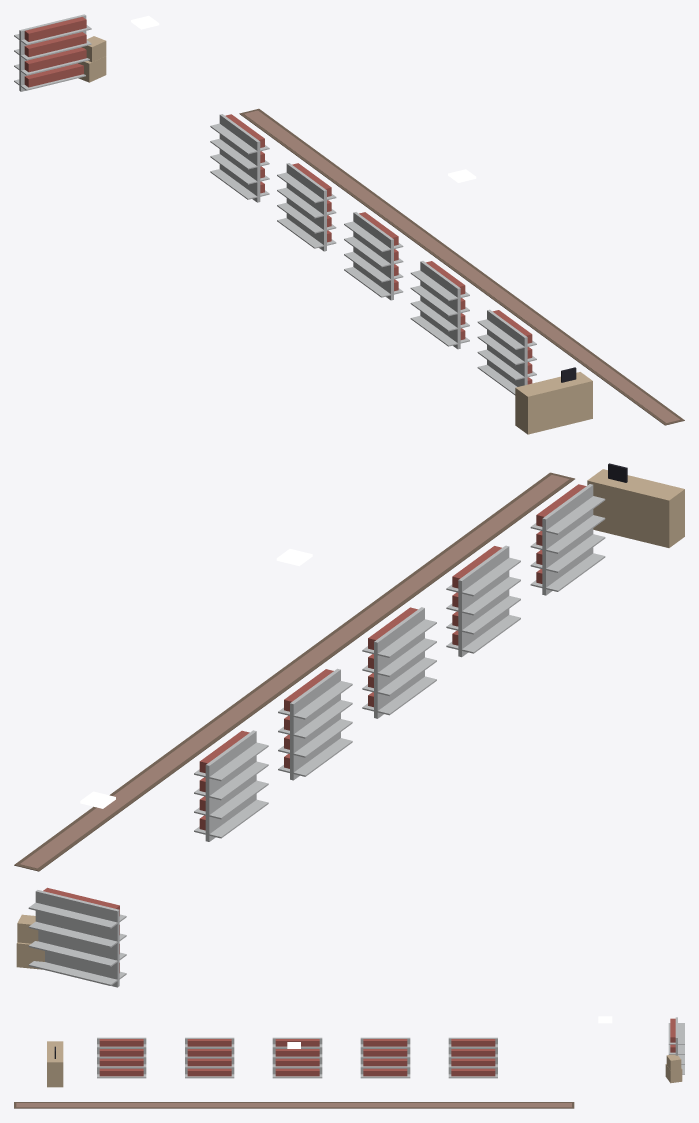
File: fine-s0.glb
3 views of the same model, one above another, from view 1: azimuth 30°, elevation 25°; view 2: azimuth 150°, elevation 25°; view 3: azimuth 270°, elevation 25° (orthographic). The views are drawn at different scales.
Visible parts, largest first — view 1: soft-s0, shelving.000, shop-counter.000, shelf.000, shelf.001, shelf.003, shelf.002, shelf.004, cardboard-box.000; view 2: soft-s0, shelving.000, shop-counter.000, shelf.000, shelf.004, shelf.003, shelf.001, shelf.002, cardboard-box.000; view 3: soft-s0, shelf.001, shelf.000, shelf.003, shelf.004, shelf.002, shop-counter.000, shelving.000, cardboard-box.000.
Boxes of the visible parts, bbox=[...] form: soft-s0: bbox=[239, 108, 684, 425]; shelving.000: bbox=[14, 14, 91, 91]; shop-counter.000: bbox=[515, 367, 592, 434]; shelf.000: bbox=[210, 114, 269, 202]; shelf.001: bbox=[277, 163, 336, 251]; shelf.003: bbox=[410, 261, 469, 349]; shelf.002: bbox=[344, 212, 403, 300]; shelf.004: bbox=[477, 309, 536, 395]; cardboard-box.000: bbox=[78, 36, 106, 82]; soft-s0: bbox=[14, 472, 574, 871]; shelving.000: bbox=[28, 887, 126, 987]; shop-counter.000: bbox=[587, 463, 684, 547]; shelf.000: bbox=[194, 730, 268, 841]; shelf.004: bbox=[530, 484, 605, 595]; shelf.003: bbox=[446, 545, 520, 657]; shelf.001: bbox=[278, 668, 352, 780]; shelf.002: bbox=[362, 607, 436, 718]; cardboard-box.000: bbox=[16, 914, 44, 969]; soft-s0: bbox=[14, 1102, 574, 1108]; shelf.001: bbox=[360, 1037, 410, 1078]; shelf.000: bbox=[448, 1037, 497, 1078]; shelf.003: bbox=[185, 1037, 234, 1078]; shelf.004: bbox=[97, 1037, 146, 1078]; shelf.002: bbox=[272, 1037, 322, 1078]; shop-counter.000: bbox=[47, 1041, 63, 1087]; shelving.000: bbox=[668, 1017, 684, 1074]; cardboard-box.000: bbox=[665, 1054, 682, 1083].
Size of the model in its own units: 4.45 by 2.44 by 24.42.
